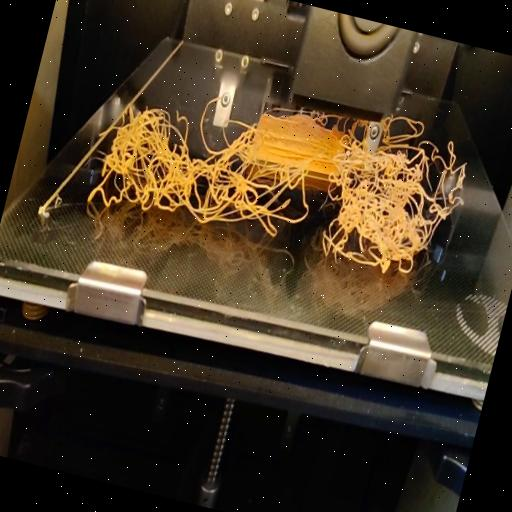spaghetti: (78, 56, 476, 313)
